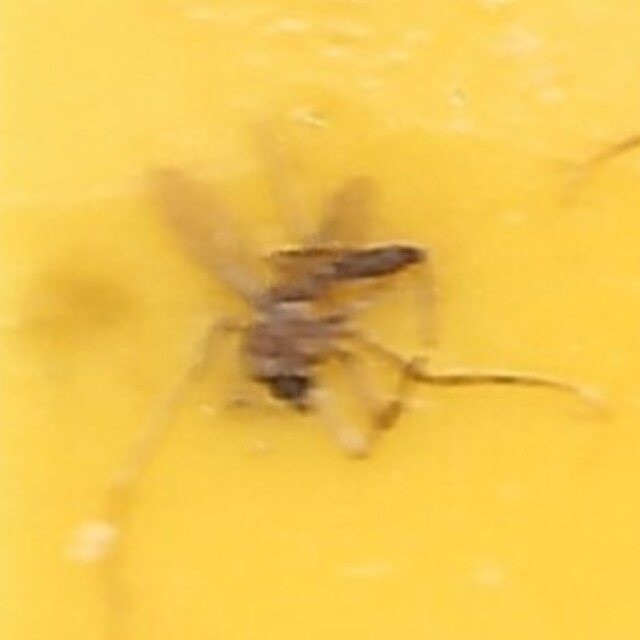Nematocera: (222, 228, 418, 412)
